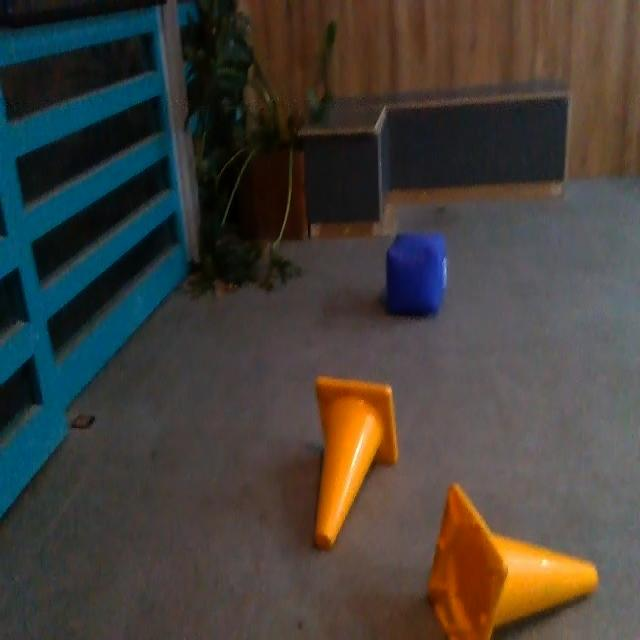cone: (423, 482, 597, 640), (310, 376, 402, 548)
cube: (386, 235, 450, 316)
